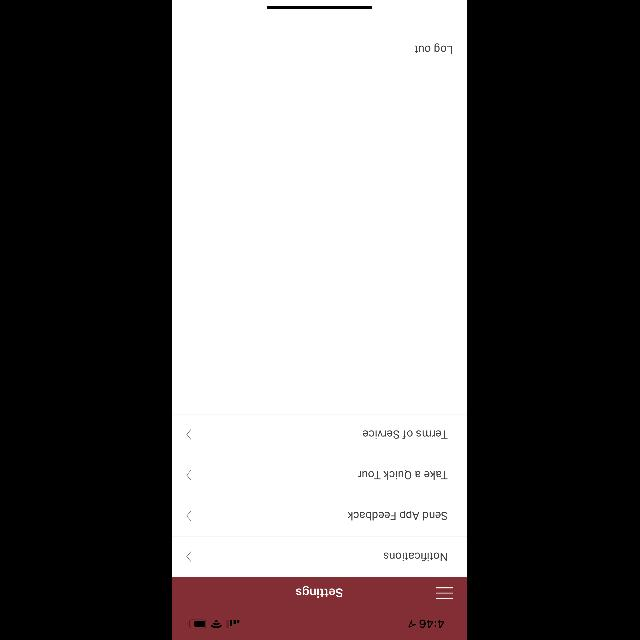icon: (437, 588, 453, 598), (186, 430, 192, 440), (186, 470, 192, 480), (186, 511, 192, 521), (186, 552, 192, 562)
image: (297, 586, 343, 598)
text: (359, 470, 448, 480), (364, 430, 448, 440), (348, 512, 448, 520), (384, 552, 448, 562), (416, 44, 452, 54)
uppertaskbar: (188, 620, 444, 628)
